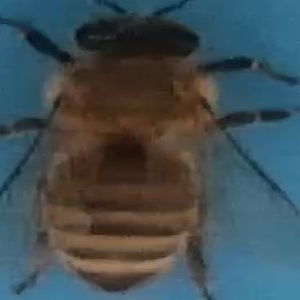bee: (3, 4, 288, 295)
